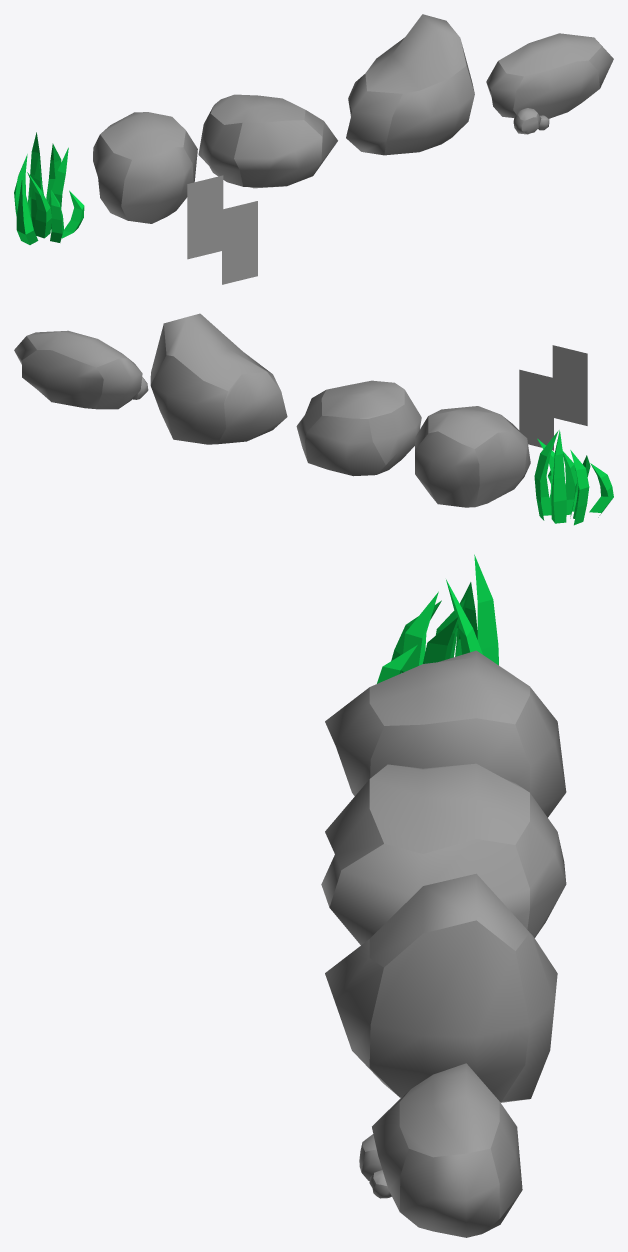
File: Rock_02.fbx
3 renders of one model, top to bottom at view 1: azimuth 30°, elevation 25°; view 2: azimuth 150°, elevation 25°; view 3: azimuth 270°, elevation 25°, orthographic. The views are drawn at different scales.
Parts seen in each view (by area): view 1: Rock, Rock_07, grass_08, grass_07, grass_11, grass_04, Rock_05, grass_02, grass_06, grass_05, grass_03, grass_09 (+1 smaller); view 2: Rock, Rock_07, grass_08, grass_07, grass_03, grass_09, grass_01, grass_04, grass_10; view 3: Rock, Rock_07, grass_03, grass_11.
Boxes of the visible parts, box(x1,y1,x2,y2) form: Rock: box(93, 14, 474, 223); Rock_07: box(486, 33, 613, 118); grass_08: box(222, 201, 257, 284); grass_07: box(187, 175, 223, 259); grass_11: box(27, 172, 51, 238); grass_04: box(16, 178, 38, 244); Rock_05: box(513, 108, 541, 134); grass_02: box(50, 190, 63, 242); grass_06: box(48, 147, 68, 228); grass_05: box(61, 190, 84, 238); grass_03: box(28, 132, 42, 215); grass_09: box(46, 143, 61, 202); Rock: box(150, 313, 530, 507); Rock_07: box(14, 330, 142, 409); grass_08: box(552, 345, 587, 425); grass_07: box(519, 369, 553, 450); grass_03: box(551, 430, 566, 523); grass_09: box(534, 430, 558, 520); grass_01: box(570, 450, 589, 525); grass_04: box(589, 463, 613, 517); grass_10: box(562, 451, 577, 518); Rock: box(321, 650, 566, 1102); Rock_07: box(372, 1063, 522, 1237); grass_03: box(474, 554, 498, 665); grass_11: box(401, 591, 438, 672).
Bounding box in the file's own units: 8.39 × 1.6 × 3.15.
